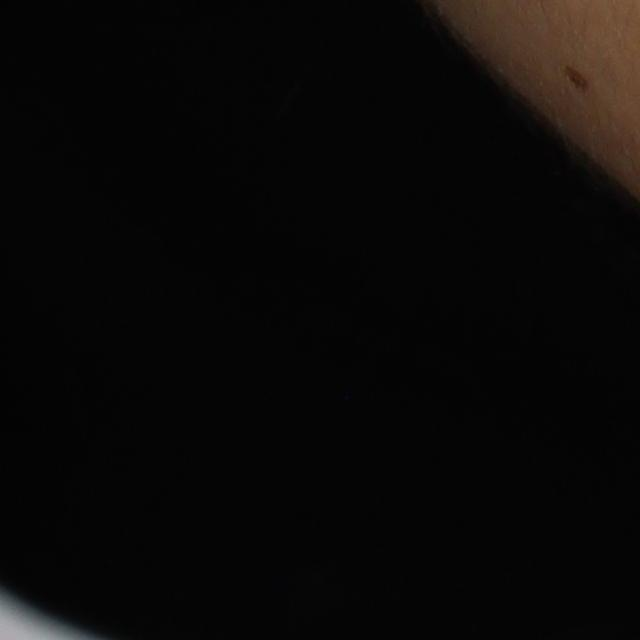nevus: (566, 60, 595, 91)
